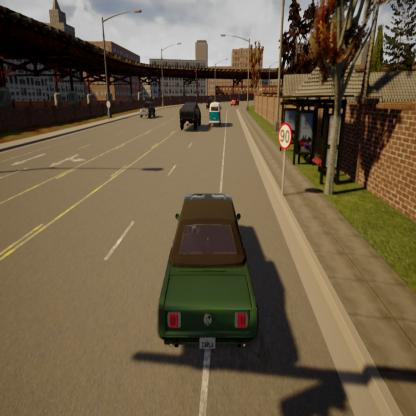Cars: (157, 194, 258, 354), (180, 102, 201, 130), (139, 98, 155, 121), (209, 101, 221, 126), (232, 97, 238, 107)
